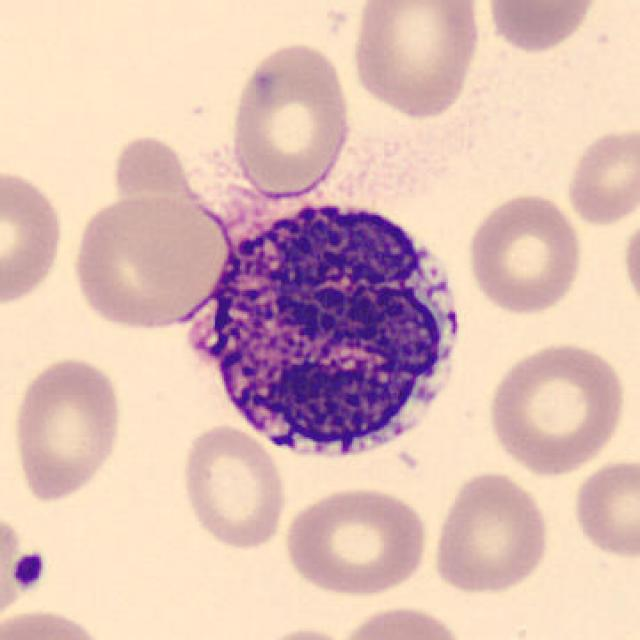Basophil: (174, 183, 478, 476)
Platelets: (7, 548, 48, 591)
RBC: (68, 190, 231, 334), (484, 337, 630, 478), (226, 39, 354, 199), (279, 482, 432, 600), (7, 353, 126, 504), (428, 466, 554, 598), (346, 0, 484, 120), (464, 189, 585, 317), (176, 421, 290, 552), (0, 164, 68, 310), (562, 122, 638, 229), (569, 455, 638, 562), (482, 0, 602, 55), (332, 603, 470, 640), (0, 606, 110, 640), (618, 206, 640, 320), (0, 506, 20, 615), (245, 624, 358, 640)
